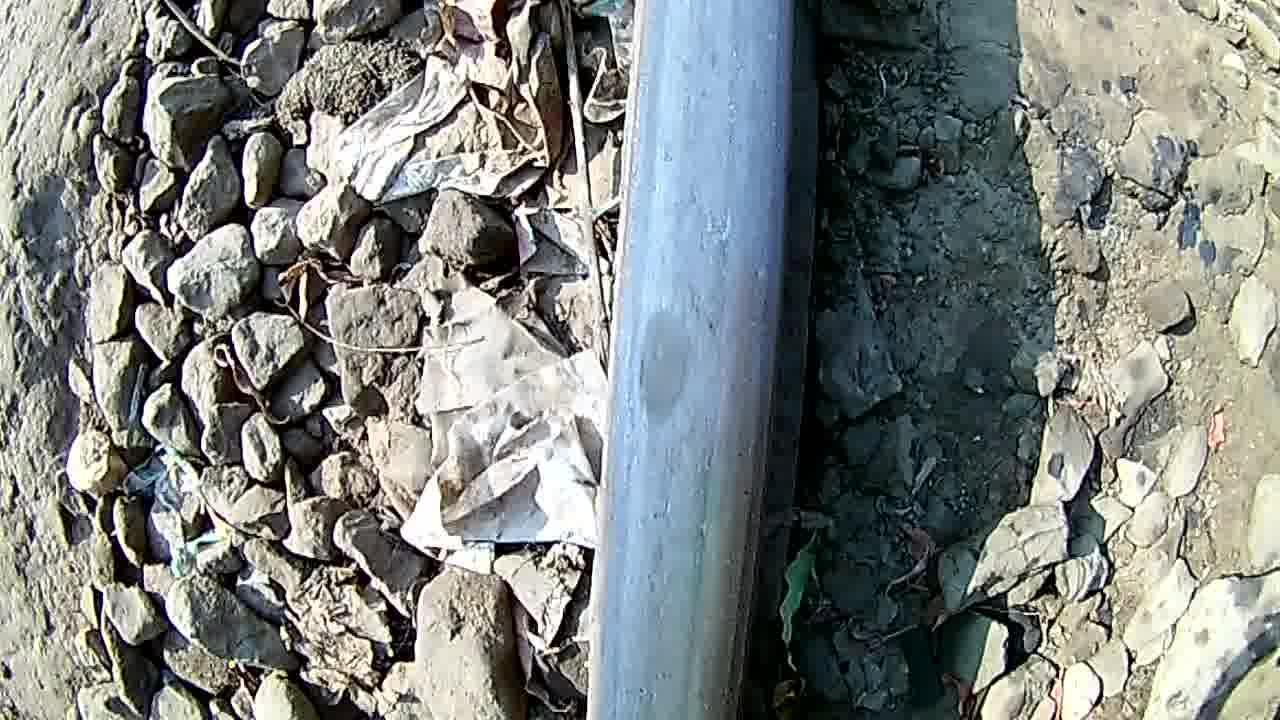crack: (598, 274, 758, 496)
